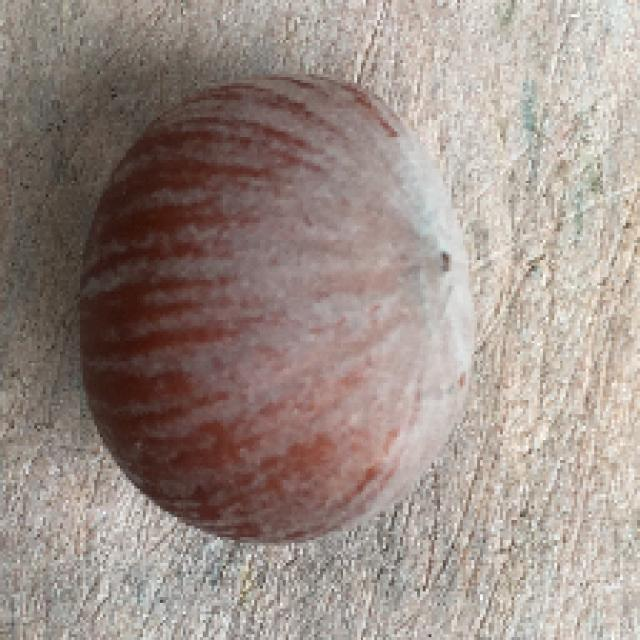qualityHazelnut: (66, 62, 473, 550)
